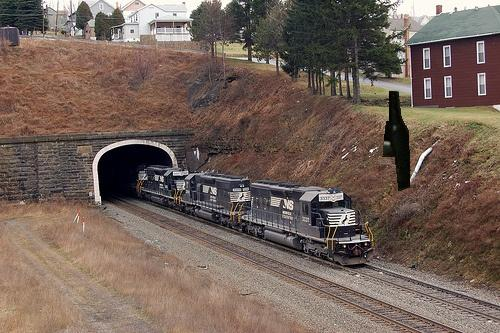tampered: (383, 92, 410, 191)
